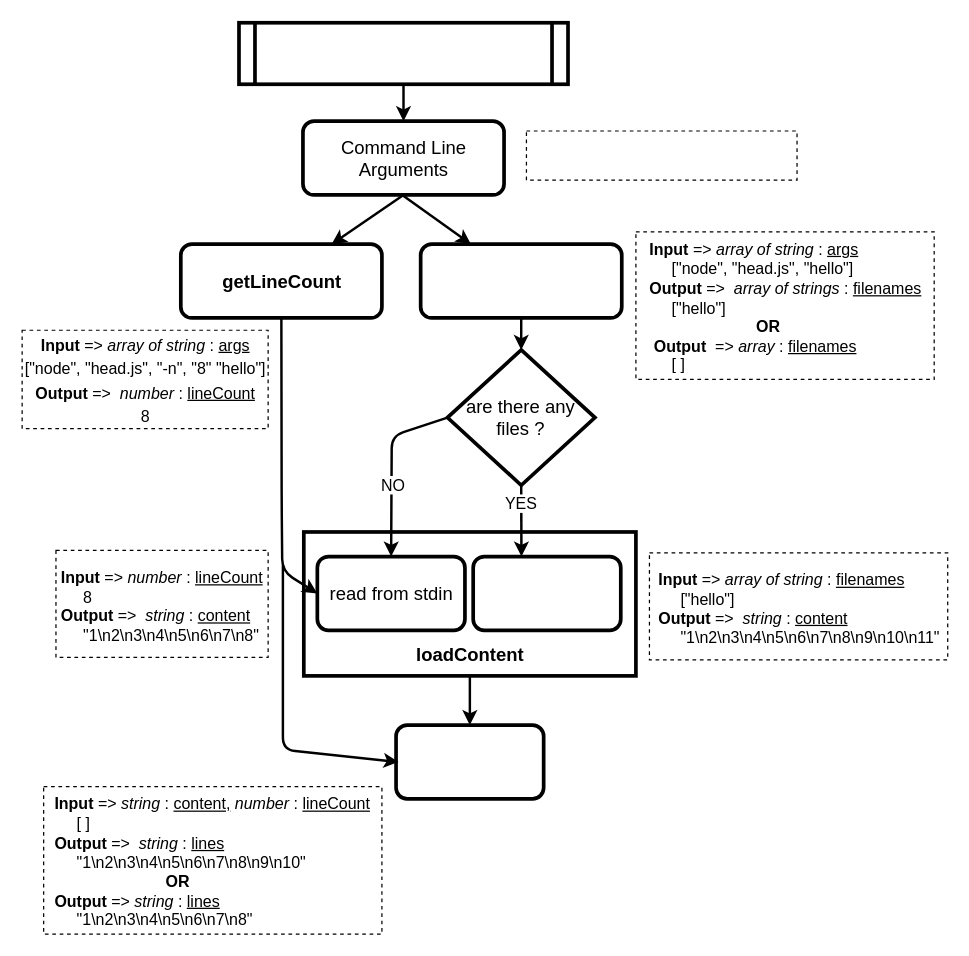
Some shapes in this 969 by 956 pixel diagram are drawn without their labels. The centre of each missing label's shape, as x and y in pixels:
filterFilenames: point (520, 280)
filterLines: point (469, 761)
HEAD: point (403, 52)
Output => array of strings : args ["node", "head.js", "hello"]: point (661, 155)
read from files: point (546, 593)
